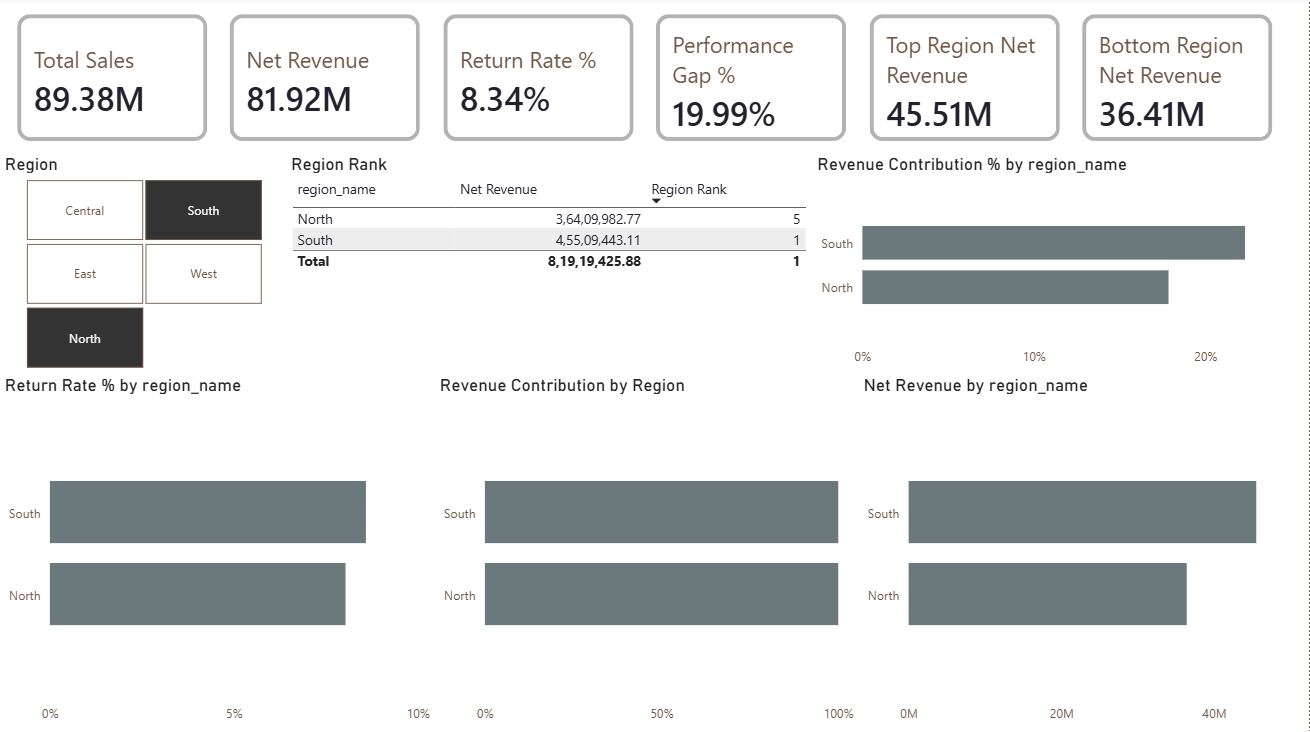

The dashboard page shown, as its layout file describes it:
{"tool":"powerbi","page":{"name":"Page 1","canvas":[1280,720],"ordinal":0},"visuals":[{"type":"cardVisual","title":"Total Sales","fields":{"Data":["Region_Net_Revenue.Total Sales"]},"box":[0,0,220,158],"z":0},{"type":"cardVisual","title":"Net Revenue","fields":{"Data":["Region_Net_Revenue.Net Revenue"]},"box":[208.4,0,220,158],"z":1000},{"type":"cardVisual","title":"Return Rate","fields":{"Data":["Region_Net_Revenue.Return Rate %"]},"box":[416.7,0,220,158],"z":2000},{"type":"cardVisual","title":"Regional Performance Gap","fields":{"Data":["Region_Net_Revenue.Performance Gap %"]},"box":[625.1,0,220,158],"z":3000},{"type":"clusteredBarChart","fields":{"Category":["Region_Net_Revenue.region_name"],"Y":["Region_Net_Revenue.Net Revenue"]},"box":[840.4,369.9,439.6,350],"z":4000},{"type":"clusteredBarChart","fields":{"Category":["Region_Net_Revenue.region_name"],"Y":["Region_Net_Revenue.Return Rate %"]},"box":[0,369.9,425.9,350],"z":5000},{"type":"hundredPercentStackedBarChart","title":"Revenue Contribution by Region","fields":{"Category":["Region_Net_Revenue.region_name"],"Y":["Region_Net_Revenue.Revenue Contribution %"]},"box":[425.8,369.9,414.7,350],"z":6000},{"type":"clusteredBarChart","fields":{"Category":["Region_Net_Revenue.region_name"],"Y":["Region_Net_Revenue.Revenue Contribution %"]},"box":[794.5,152.3,485.5,217.7],"z":7000},{"type":"cardVisual","title":"Top Region Net Revenue","fields":{"Data":["Region_Net_Revenue.Top Region Net Revenue"]},"box":[833.5,0,220,158],"z":8000},{"type":"cardVisual","title":"Bottom Region Net Revenue","fields":{"Data":["Region_Net_Revenue.Bottom Region Net Revenue"]},"box":[1041.9,0,220,158],"z":9000},{"type":"tableEx","title":"Region Rank","fields":{"Values":["Region_Net_Revenue.region_name","Region_Net_Revenue.Net Revenue","Region_Net_Revenue.Region Rank"]},"box":[280.4,152.8,514.3,216.7],"z":10000},{"type":"slicer","title":"Region","fields":{"Values":["Region_Net_Revenue.region_name"]},"box":[0,152.8,280.2,216.7],"z":11000}]}

Visuals, with their boxes in screenshot pixels (x1, y1, x2, y2), scaled from the page's 1280x720 canvas onto the 1310x732 screenshot:
"Total Sales" cardVisual: box=[0, 0, 225, 161]
"Net Revenue" cardVisual: box=[213, 0, 438, 161]
"Return Rate" cardVisual: box=[426, 0, 652, 161]
"Regional Performance Gap" cardVisual: box=[640, 0, 865, 161]
clusteredBarChart - Region_Net_Revenue.region_name x Region_Net_Revenue.Net Revenue: box=[860, 376, 1309, 731]
clusteredBarChart - Region_Net_Revenue.region_name x Region_Net_Revenue.Return Rate %: box=[0, 376, 436, 731]
"Revenue Contribution by Region" hundredPercentStackedBarChart: box=[436, 376, 860, 731]
clusteredBarChart - Region_Net_Revenue.region_name x Region_Net_Revenue.Revenue Contribution %: box=[813, 155, 1309, 376]
"Top Region Net Revenue" cardVisual: box=[853, 0, 1078, 161]
"Bottom Region Net Revenue" cardVisual: box=[1066, 0, 1291, 161]
"Region Rank" tableEx: box=[287, 155, 813, 376]
"Region" slicer: box=[0, 155, 287, 376]
